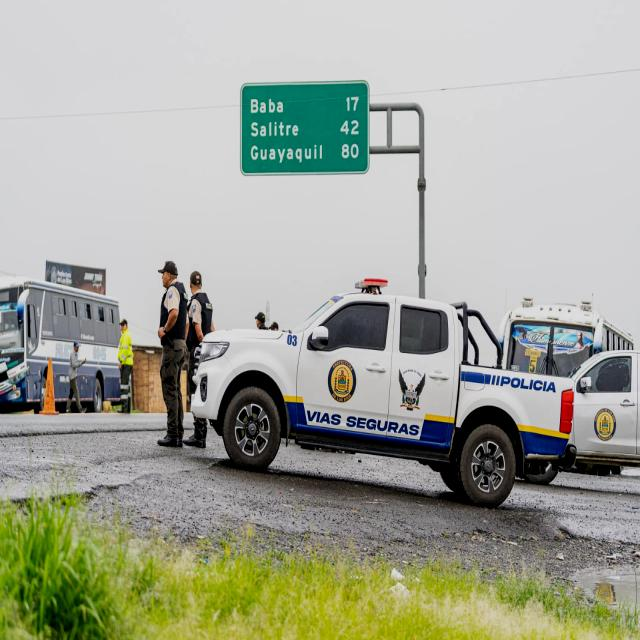BUS: (0, 272, 138, 414)
CMT: (193, 282, 573, 511)
